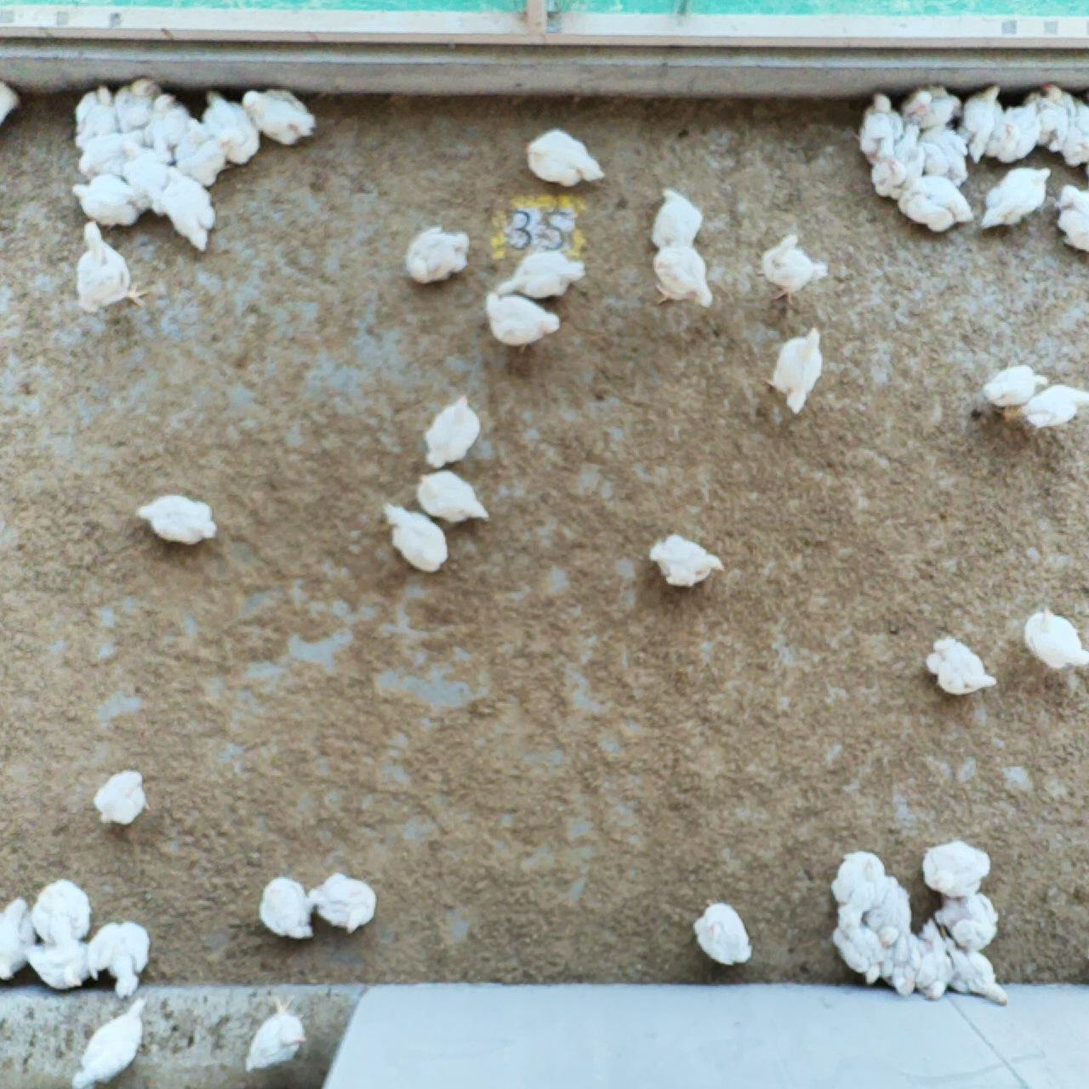chicken: (750, 314, 831, 422), (65, 218, 148, 320), (68, 995, 155, 1089), (918, 624, 1002, 704), (150, 164, 219, 256), (750, 228, 830, 307), (645, 528, 733, 599), (521, 125, 605, 195), (83, 916, 152, 1000), (242, 988, 309, 1074), (481, 285, 562, 356), (688, 888, 756, 972), (379, 498, 452, 575), (916, 831, 996, 901), (939, 934, 1010, 1011), (198, 89, 262, 172), (977, 164, 1055, 232), (1018, 602, 1089, 675), (420, 392, 485, 470), (649, 234, 714, 312), (307, 869, 381, 936), (495, 244, 590, 296), (133, 489, 221, 545), (239, 85, 317, 147), (402, 221, 473, 289), (258, 872, 322, 946), (29, 870, 93, 944), (845, 86, 903, 165), (410, 469, 492, 524), (829, 904, 882, 989), (827, 843, 886, 919), (897, 174, 974, 232), (935, 890, 1002, 953), (71, 171, 146, 227), (21, 929, 90, 989), (171, 116, 231, 185), (92, 766, 154, 832), (978, 362, 1050, 417), (1014, 377, 1089, 429), (916, 123, 972, 190), (917, 915, 956, 1004), (961, 79, 1002, 163), (650, 181, 702, 246), (1030, 79, 1074, 153), (0, 893, 35, 985), (861, 874, 906, 944), (118, 132, 164, 196), (69, 83, 115, 146), (900, 82, 964, 127), (76, 130, 134, 178), (881, 929, 921, 998), (999, 97, 1039, 164), (113, 74, 158, 129), (1057, 96, 1089, 170), (894, 123, 931, 185), (1058, 180, 1089, 252), (150, 94, 188, 146), (869, 150, 908, 199), (0, 77, 25, 125)
